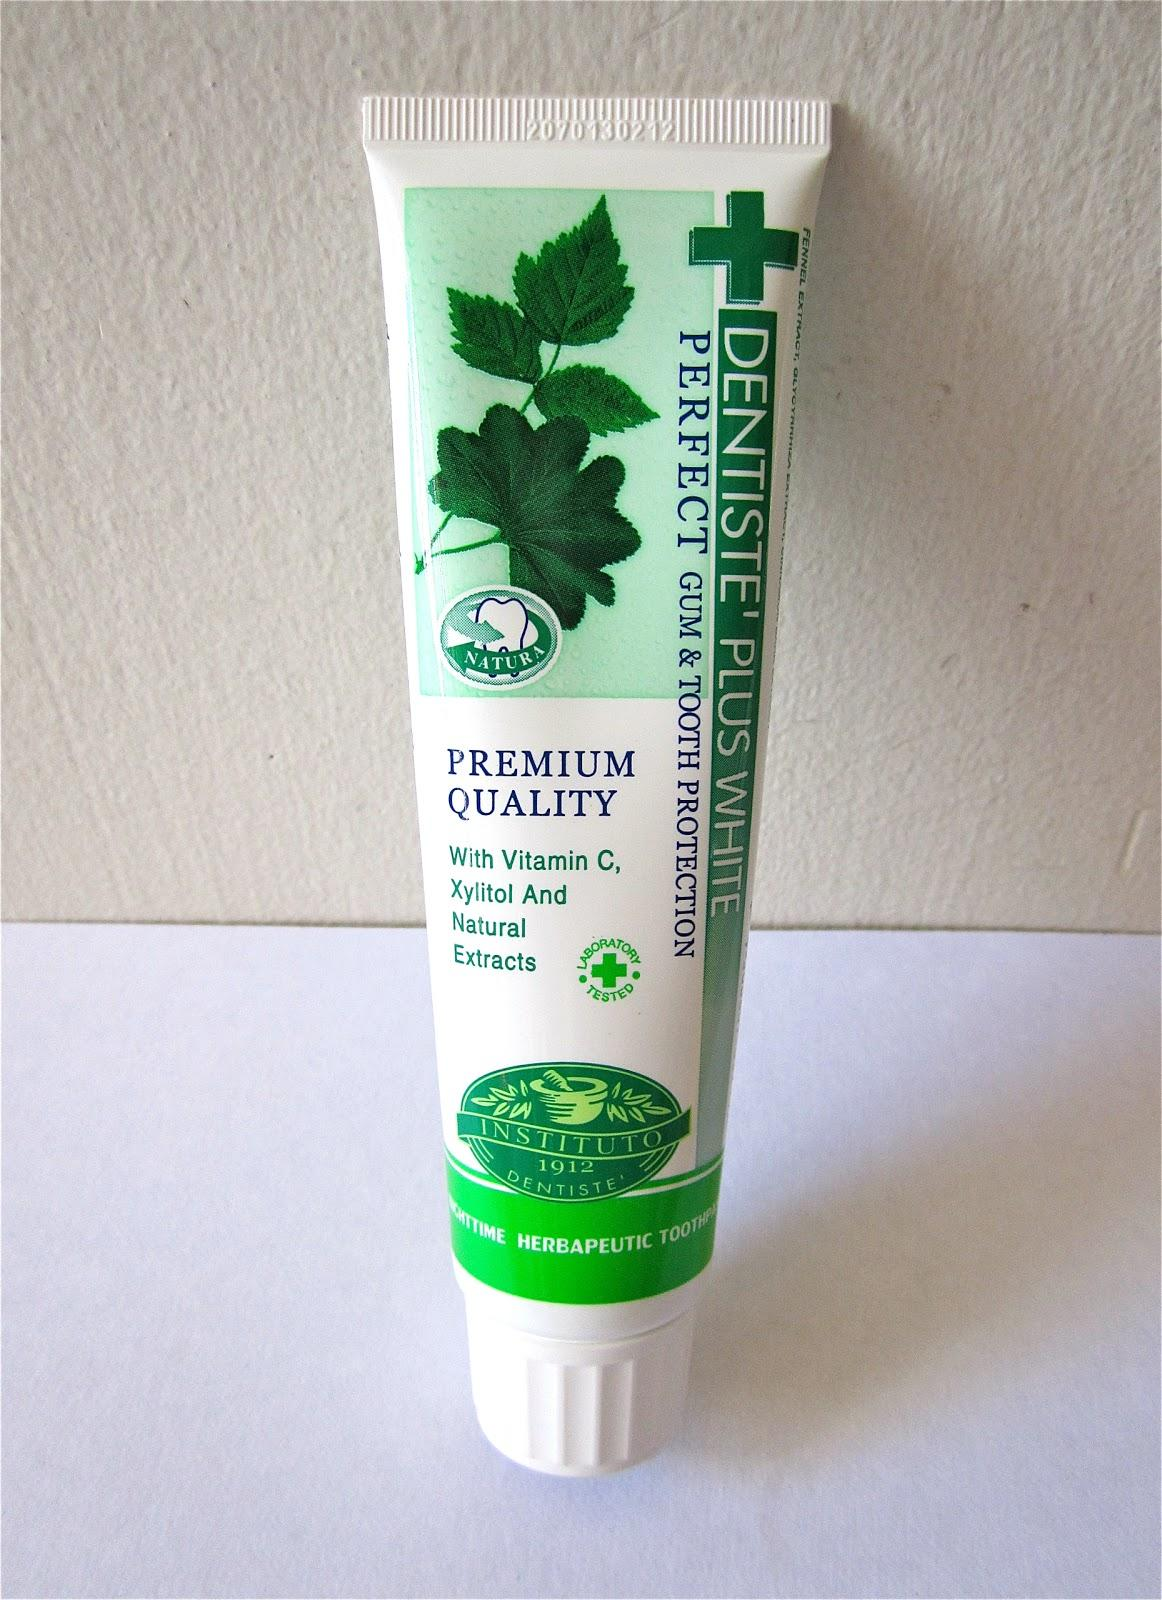toothpaste: (333, 68, 858, 1493)
